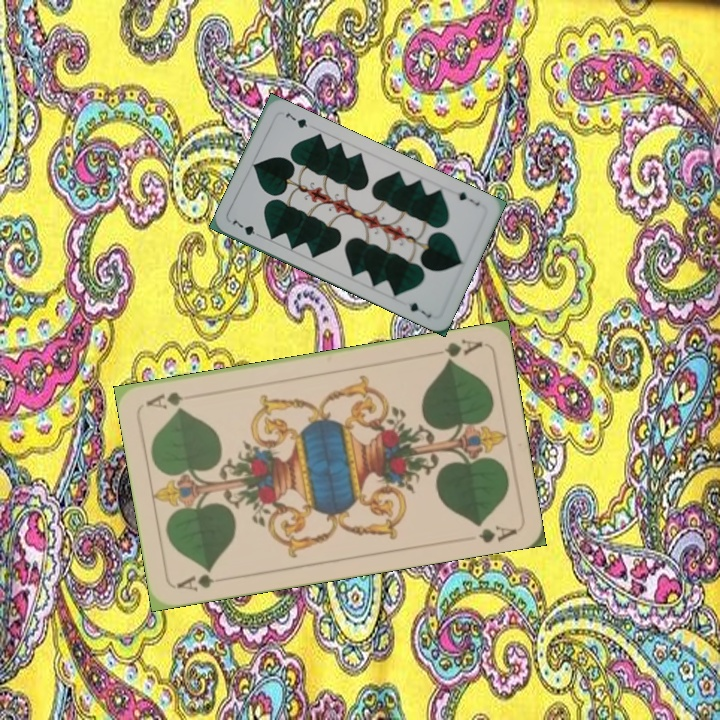G7: (228, 215, 265, 240), (454, 188, 483, 208)
GA: (441, 334, 485, 365), (172, 566, 216, 595)
